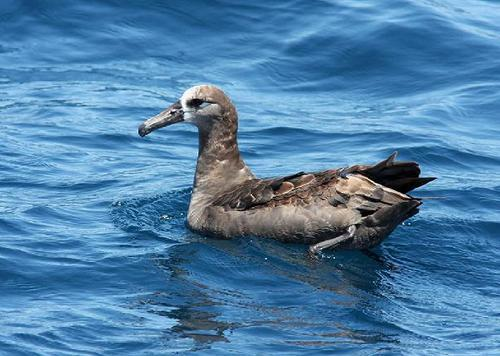001.Black_footed_Albatross: (136, 81, 439, 256)
